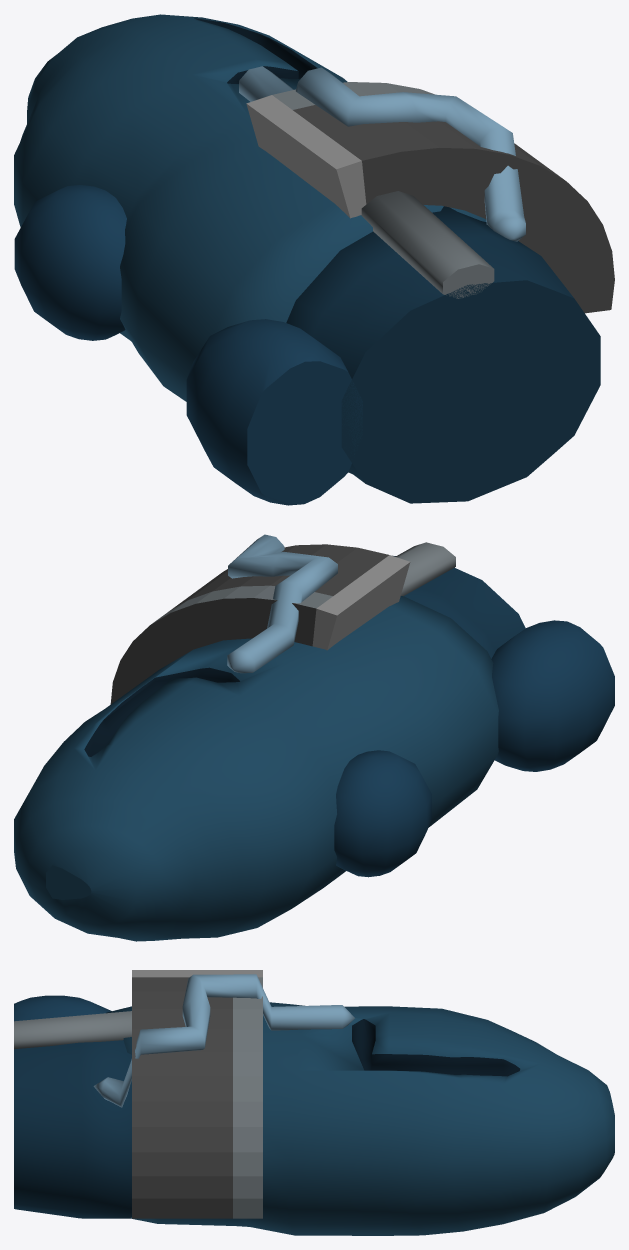
File: newsh-caret-18.glb
The picture shows the model from 3 angles, top to bottom: view 1: azimuth 30°, elevation 25°; view 2: azimuth 150°, elevation 25°; view 3: azimuth 270°, elevation 25°; orthographic projection. The views are drawn at different scales.
Parts seen in each view (by area): view 1: newsh-caret-18; view 2: newsh-caret-18; view 3: newsh-caret-18.
Part boxes in pixels (x1,y1,x2,y2): newsh-caret-18: (14,14,614,505); newsh-caret-18: (14,534,614,941); newsh-caret-18: (14,970,614,1235).
Bounding box in the file's own units: 1.49 × 1.04 × 2.33.
